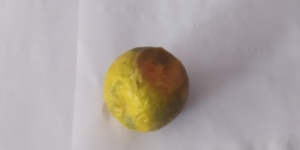BAD: (105, 46, 189, 129)
